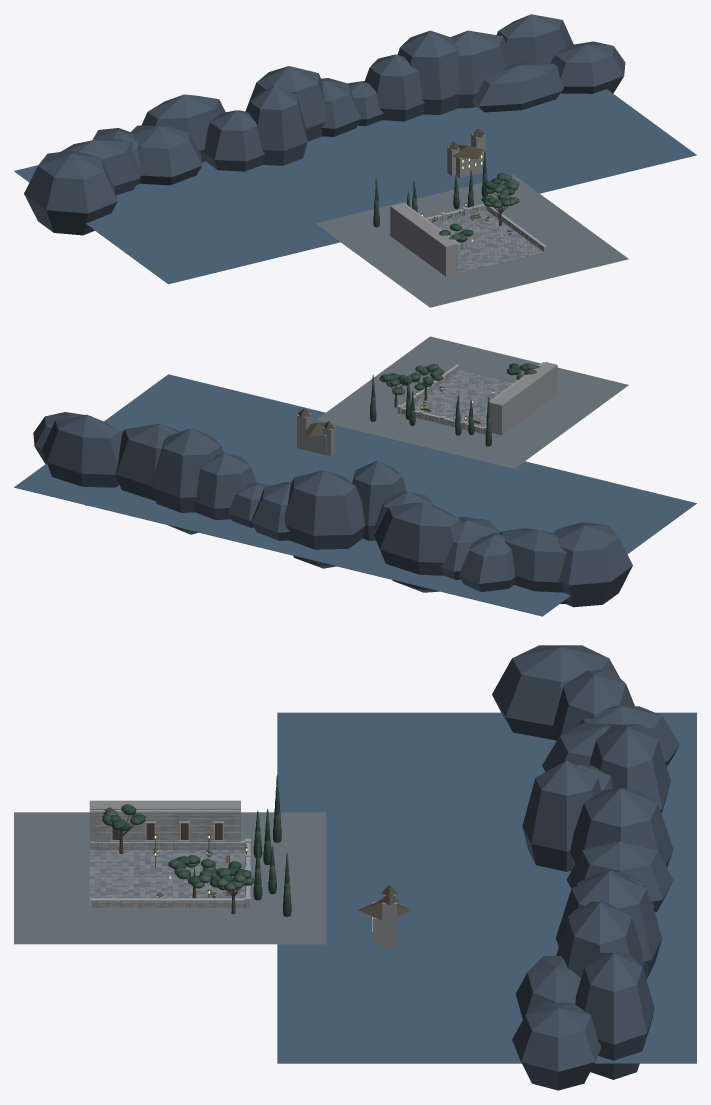
The model's file is rainatelier.glb.
3 renders of one model, top to bottom at view 1: azimuth 30°, elevation 25°; view 2: azimuth 150°, elevation 25°; view 3: azimuth 270°, elevation 25°, orthographic. The views are drawn at different scales.
Visible parts, largest first — view 1: CourtLake, CourtMountainSlate, CourtWetStone0, CourtMasonry1, CourtMasonry0, CourtWetStone3, CourtWetStone2, CourtWetStone1, CourtFoliage1, CourtFoliage0, CourtFoliage2, CourtPaleStone (+1 smaller); view 2: CourtMountainSlate, CourtLake, CourtWetStone0, CourtMasonry1, CourtMasonry0, CourtFoliage0, CourtWetStone3, CourtWetStone2, CourtFoliage1, CourtWetStone1, CourtFoliage2, CourtPaleStone; view 3: CourtLake, CourtMountainSlate, CourtWetStone0, CourtMasonry1, CourtMasonry0, CourtMasonry2, CourtWetStone2, CourtFoliage0, CourtPaleStone, CourtWetStone3, CourtFoliage1, CourtWetStone1 (+2 smaller).
Boxes of the visible parts, bbox=[...] form: CourtLake: bbox=[14, 89, 696, 284]; CourtMountainSlate: bbox=[24, 14, 625, 235]; CourtWetStone0: bbox=[315, 175, 628, 307]; CourtMasonry1: bbox=[390, 203, 545, 276]; CourtMasonry0: bbox=[430, 133, 545, 271]; CourtWetStone3: bbox=[435, 211, 543, 269]; CourtWetStone2: bbox=[434, 211, 539, 272]; CourtWetStone1: bbox=[433, 210, 541, 271]; CourtFoliage1: bbox=[374, 157, 519, 242]; CourtFoliage0: bbox=[373, 165, 514, 236]; CourtFoliage2: bbox=[374, 150, 519, 242]; CourtPaleStone: bbox=[403, 203, 546, 268]; CourtMountainSlate: bbox=[33, 412, 632, 607]; CourtLake: bbox=[14, 374, 696, 616]; CourtWetStone0: bbox=[315, 336, 628, 468]; CourtMasonry1: bbox=[401, 362, 557, 435]; CourtMasonry0: bbox=[297, 366, 484, 455]; CourtFoliage0: bbox=[370, 363, 530, 446]; CourtWetStone3: bbox=[404, 370, 512, 432]; CourtWetStone2: bbox=[417, 371, 510, 434]; CourtFoliage1: bbox=[370, 363, 536, 435]; CourtWetStone1: bbox=[401, 372, 506, 423]; CourtFoliage2: bbox=[371, 363, 540, 429]; CourtPaleStone: bbox=[397, 362, 543, 429]; CourtLake: bbox=[277, 712, 696, 1063]; CourtMountainSlate: bbox=[492, 645, 679, 1090]; CourtWetStone0: bbox=[14, 812, 326, 944]; CourtMasonry1: bbox=[89, 800, 245, 907]; CourtMasonry0: bbox=[91, 813, 396, 947]; CourtMasonry2: bbox=[91, 813, 250, 908]; CourtWetStone2: bbox=[89, 850, 250, 906]; CourtFoliage0: bbox=[110, 796, 291, 916]; CourtPaleStone: bbox=[89, 810, 250, 901]; CourtWetStone3: bbox=[89, 850, 250, 907]; CourtFoliage1: bbox=[102, 784, 290, 905]; CourtWetStone1: bbox=[89, 850, 250, 907].
Size of the model in its own units: 190 by 32.72 by 140.
